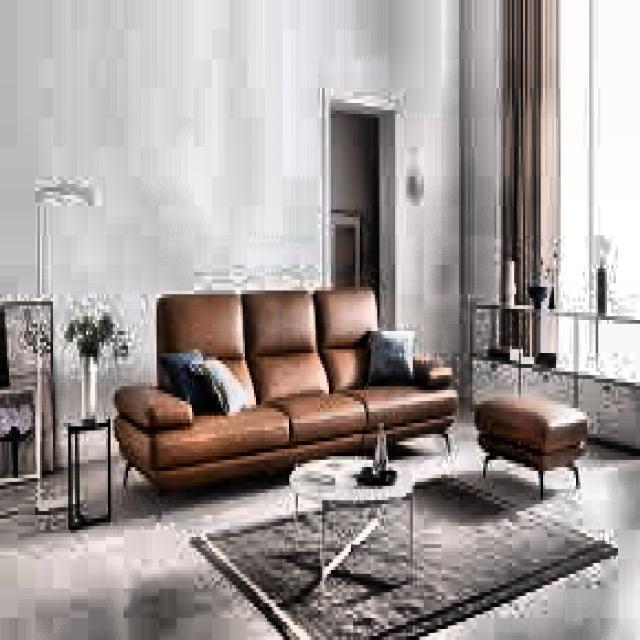sofa: (139, 291, 439, 526)
